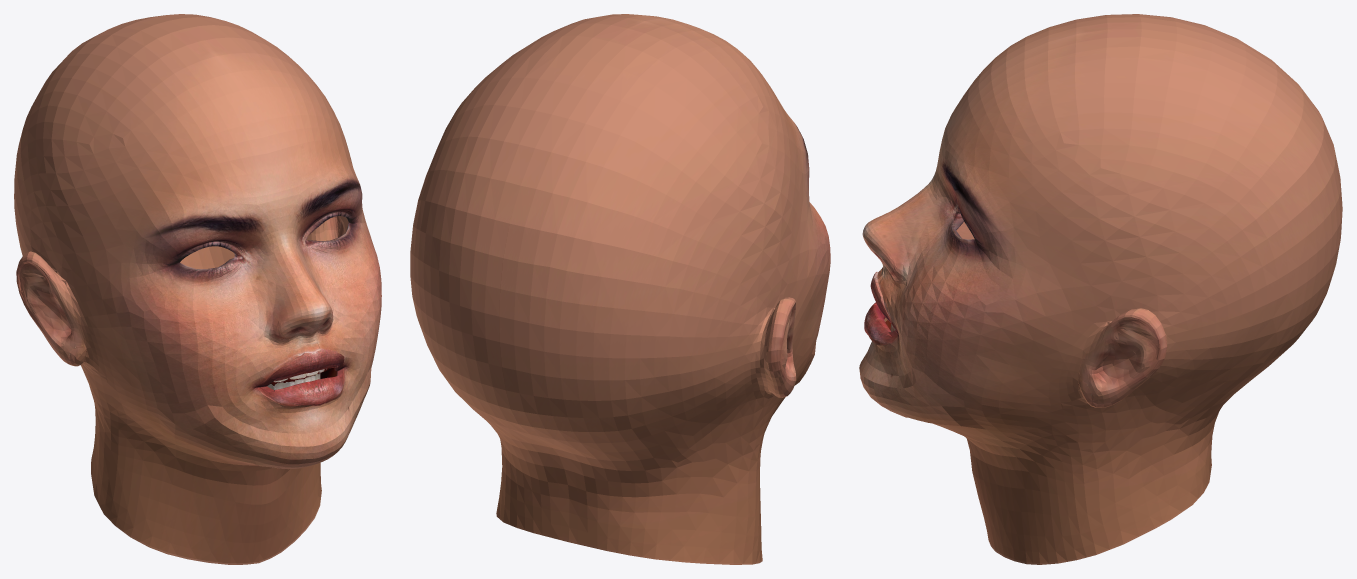
The model's file is erh.obj.
3 renders of one model, left to right at view 1: azimuth 30°, elevation 25°; view 2: azimuth 150°, elevation 25°; view 3: azimuth 270°, elevation 25°, orthographic. The views are drawn at different scales.
Visible parts, largest first — view 1: Mesh_skin_hi.001; view 2: Mesh_skin_hi.001; view 3: Mesh_skin_hi.001.
Boxes of the visible parts, x1,y1,x2,y2 form: Mesh_skin_hi.001: (14, 14, 381, 564); Mesh_skin_hi.001: (410, 14, 830, 564); Mesh_skin_hi.001: (859, 14, 1342, 564).
Size of the model in its own units: 198 by 283 by 242.
Materials: 5 (5 with a texture image).
